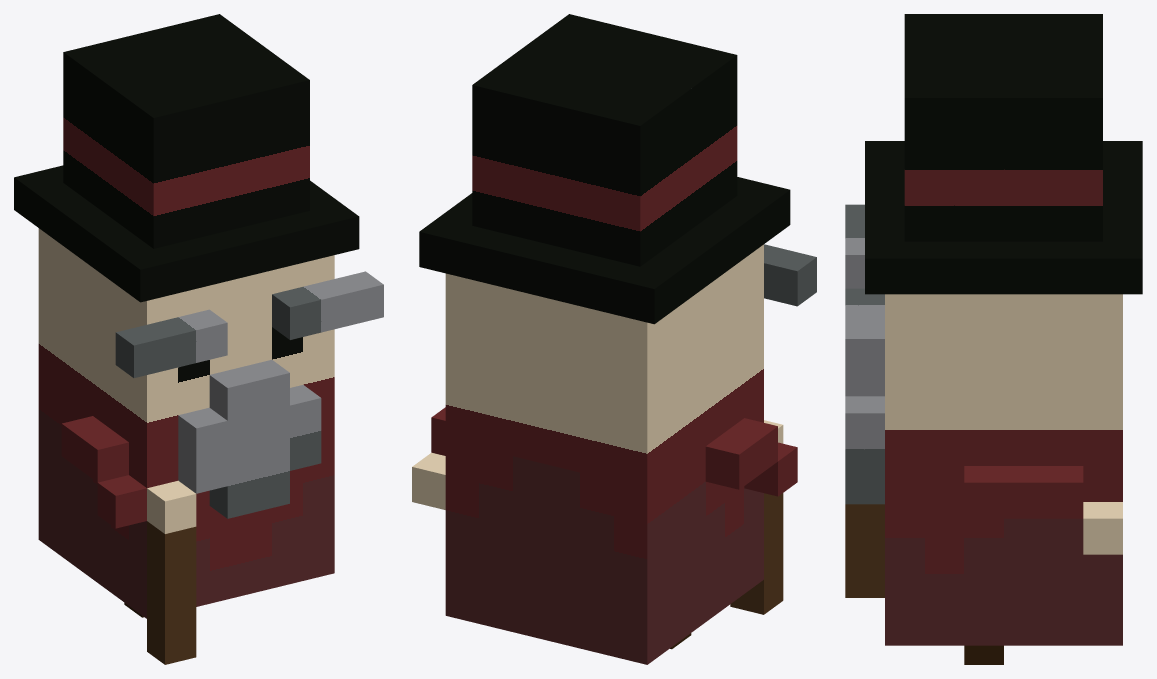
File: story_teller.fbx
3 renders of one model, left to right at view 1: azimuth 30°, elevation 25°; view 2: azimuth 150°, elevation 25°; view 3: azimuth 270°, elevation 25°, orthographic. The views are drawn at different scales.
Parts seen in each view (by area): view 1: cube_15, cube, cube_5, cube_14, cube_16, cube_8, cube_2, cube_1, cube_3, cube_11, cube_4, cube_9 (+1 smaller); view 2: cube_15, cube_5, cube, cube_14, cube_11, cube_8, cube_2, cube_13, cube_10, cube_12; view 3: cube_15, cube, cube_5, cube_14, cube_12, cube_8, cube_4, cube_1, cube_13, cube_16, cube_2, cube_7.
Boxes of the visible parts, x1=… form: cube_15: x1=63, y1=14, x2=309, y2=248; cube: x1=38, y1=228, x2=334, y2=455; cube_5: x1=38, y1=376, x2=334, y2=618; cube_14: x1=14, y1=165, x2=359, y2=302; cube_16: x1=209, y1=359, x2=289, y2=518; cube_8: x1=147, y1=521, x2=196, y2=664; cube_2: x1=115, y1=309, x2=227, y2=377; cube_1: x1=272, y1=271, x2=383, y2=339; cube_3: x1=178, y1=407, x2=227, y2=493; cube_11: x1=61, y1=416, x2=128, y2=482; cube_4: x1=290, y1=385, x2=321, y2=470; cube_9: x1=147, y1=480, x2=196, y2=533; cube_15: x1=472, y1=14, x2=737, y2=266; cube_5: x1=445, y1=404, x2=763, y2=664; cube: x1=445, y1=244, x2=763, y2=488; cube_14: x1=419, y1=177, x2=790, y2=324; cube_11: x1=705, y1=418, x2=777, y2=489; cube_8: x1=730, y1=493, x2=783, y2=614; cube_2: x1=764, y1=244, x2=816, y2=306; cube_13: x1=412, y1=452, x2=445, y2=509; cube_10: x1=744, y1=442, x2=797, y2=496; cube_12: x1=431, y1=407, x2=445, y2=455; cube_15: x1=904, y1=14, x2=1102, y2=241; cube: x1=885, y1=294, x2=1122, y2=465; cube_5: x1=885, y1=466, x2=1122, y2=645; cube_14: x1=865, y1=141, x2=1142, y2=294; cube_12: x1=964, y1=466, x2=1083, y2=518; cube_8: x1=845, y1=504, x2=884, y2=597; cube_4: x1=845, y1=396, x2=884, y2=484; cube_1: x1=845, y1=288, x2=884, y2=374; cube_13: x1=1083, y1=502, x2=1122, y2=554; cube_16: x1=845, y1=374, x2=884, y2=504; cube_2: x1=845, y1=204, x2=864, y2=288; cube_7: x1=964, y1=645, x2=1003, y2=664.
Size of the model in its own units: 50 by 100 by 46.88.
Materials: 1 (1 with a texture image).
